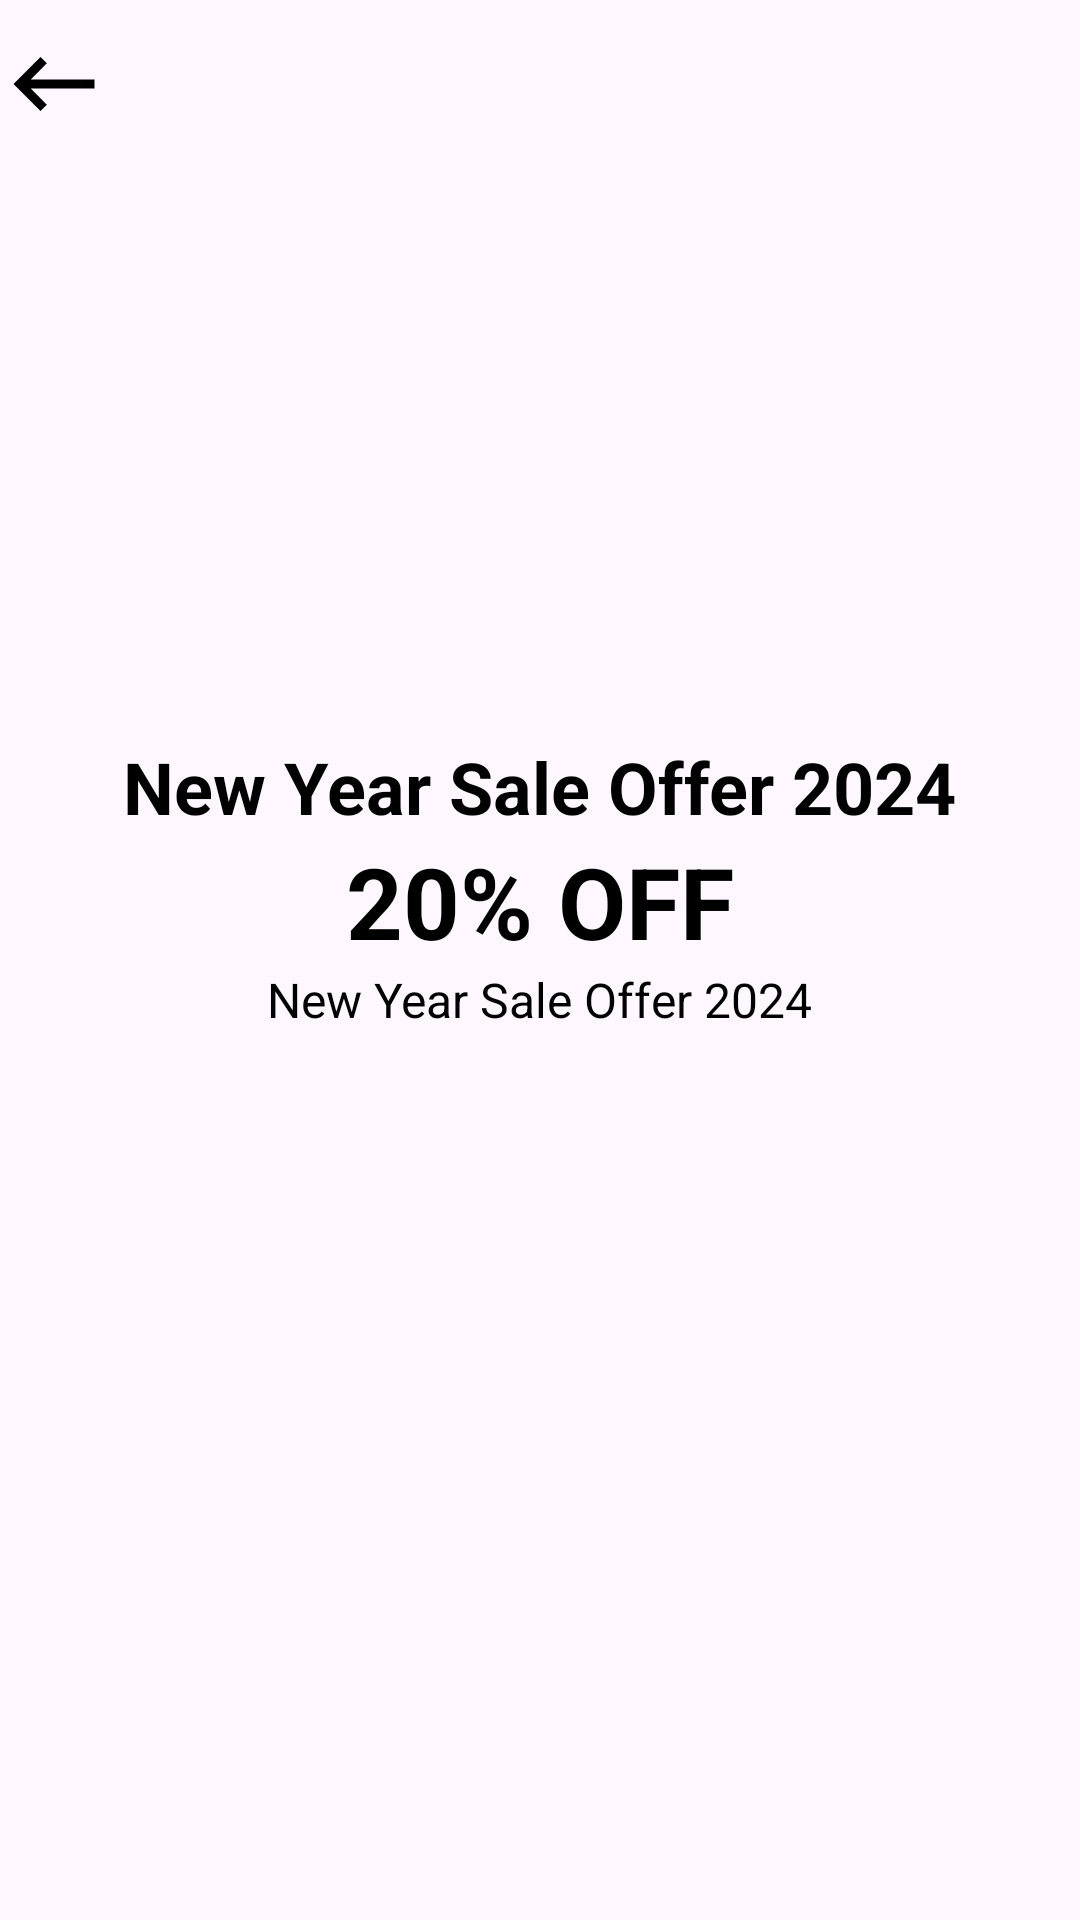

Icon click points for this 1080×1920 phone screenshot, format point (x, y):
keyboard backspace: point (54, 84)
